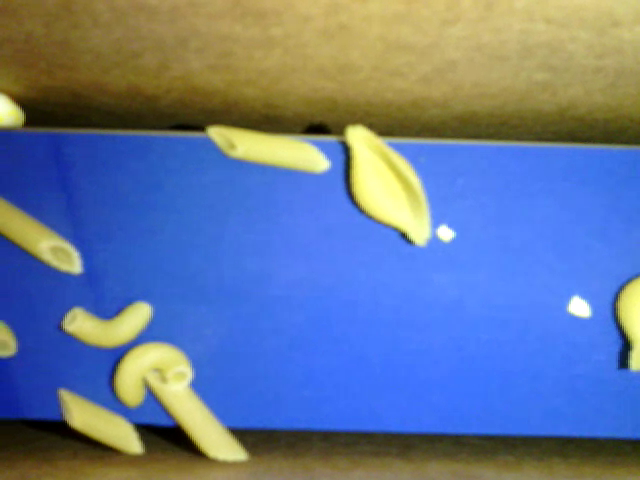elbow: (112, 341, 195, 409), (61, 300, 153, 349)
penne: (145, 373, 248, 461), (1, 195, 84, 274), (207, 125, 331, 174), (58, 389, 143, 455)
shell: (344, 124, 431, 248), (615, 273, 639, 371)
